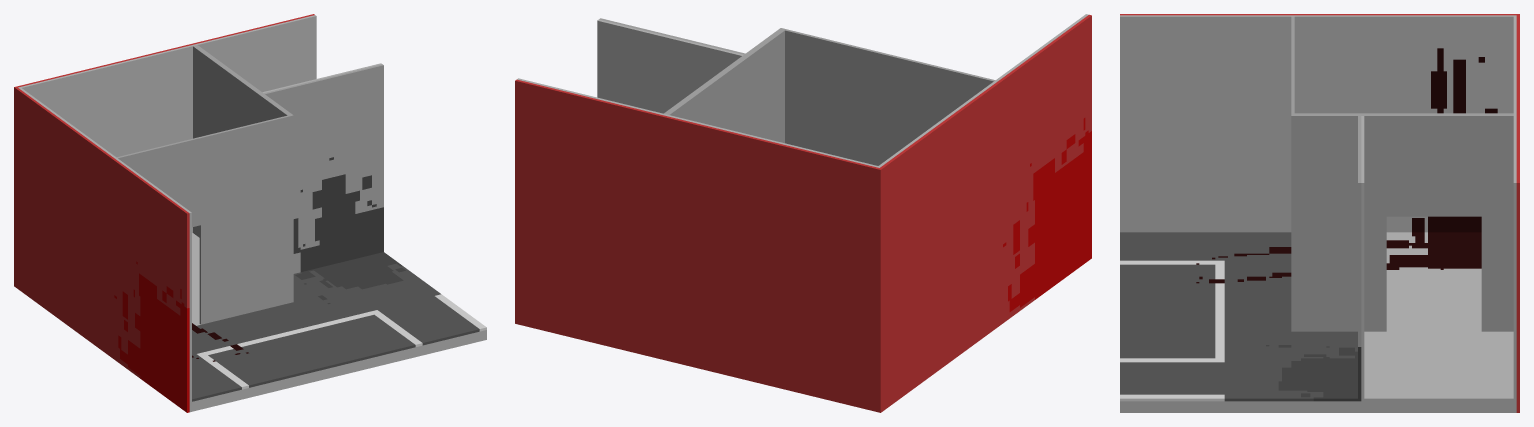
File: 4x2 first (1)-0.obj
3 views of the same model, side by side, from view 1: azimuth 30°, elevation 25°; view 2: azimuth 150°, elevation 25°; view 3: azimuth 270°, elevation 25° (orthographic). The views are drawn at different scales.
Visible parts, largest first — view 1: 4x2 first (1)-0; view 2: 4x2 first (1)-0; view 3: 4x2 first (1)-0.
Part boxes in pixels (<box>): 4x2 first (1)-0: <box>14,14,486,412</box>; 4x2 first (1)-0: <box>515,14,1091,412</box>; 4x2 first (1)-0: <box>1120,14,1519,412</box>.
Bounding box in the file's own units: 126 × 80 × 126.
Materials: 1 (1 with a texture image).
